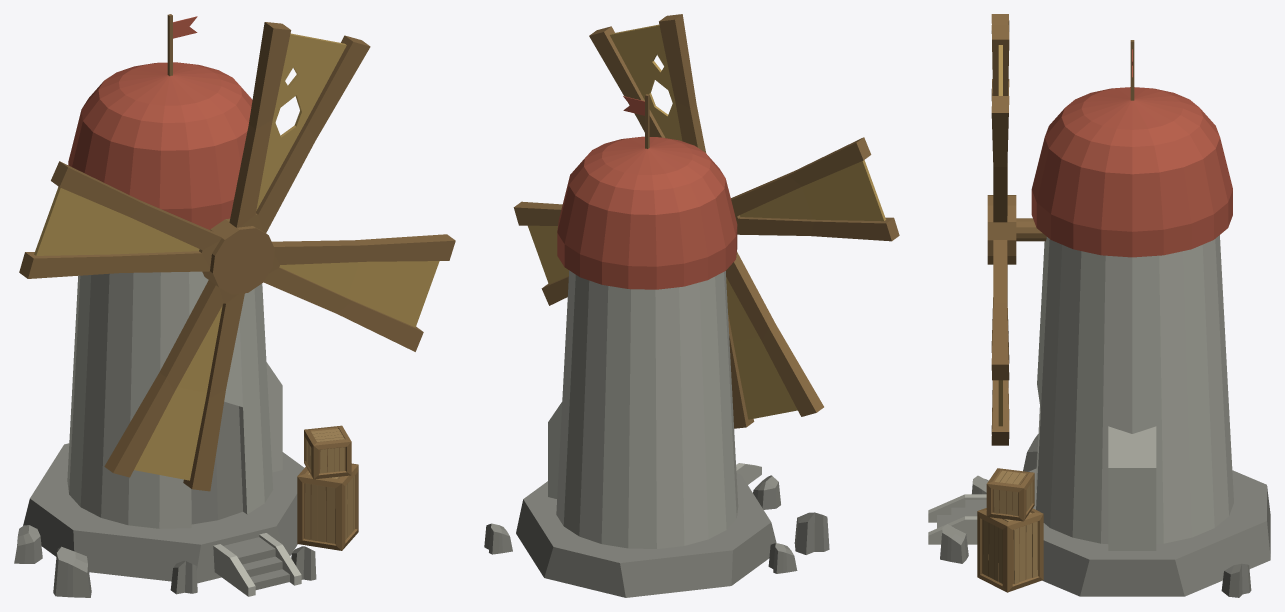
Rendered from Windmill.gltf.
3 views of the same model, side by side, from view 1: azimuth 30°, elevation 25°; view 2: azimuth 150°, elevation 25°; view 3: azimuth 270°, elevation 25° (orthographic). The views are drawn at different scales.
Parts seen in each view (by area): view 1: Cylinder_3, Cylinder, Cylinder_2, Cylinder_1, Cylinder_4, Cylinder_6, Cylinder_5; view 2: Cylinder, Cylinder_1, Cylinder_2, Cylinder_3, Cylinder_4; view 3: Cylinder, Cylinder_1, Cylinder_2, Cylinder_3, Cylinder_6, Cylinder_5, Cylinder_4.
Boxes of the visible parts, x1=… form: Cylinder_3: x1=19, y1=14, x2=455, y2=550; Cylinder: x1=67, y1=271, x2=282, y2=528; Cylinder_2: x1=14, y1=401, x2=316, y2=597; Cylinder_1: x1=68, y1=16, x2=252, y2=229; Cylinder_4: x1=34, y1=33, x2=439, y2=480; Cylinder_6: x1=305, y1=429, x2=354, y2=543; Cylinder_5: x1=213, y1=533, x2=301, y2=596; Cylinder: x1=548, y1=270, x2=738, y2=548; Cylinder_1: x1=557, y1=96, x2=737, y2=289; Cylinder_2: x1=484, y1=473, x2=829, y2=597; Cylinder_3: x1=513, y1=14, x2=899, y2=428; Cylinder_4: x1=528, y1=24, x2=885, y2=419; Cylinder: x1=1035, y1=235, x2=1233, y2=550; Cylinder_1: x1=1031, y1=49, x2=1232, y2=257; Cylinder_2: x1=937, y1=434, x2=1270, y2=597; Cylinder_3: x1=977, y1=14, x2=1134, y2=592; Cylinder_6: x1=983, y1=470, x2=1037, y2=584; Cylinder_5: x1=928, y1=494, x2=986, y2=544; Cylinder_4: x1=998, y1=45, x2=1002, y2=426.
Size of the model in its own units: 1.34 by 1.61 by 0.9424.
